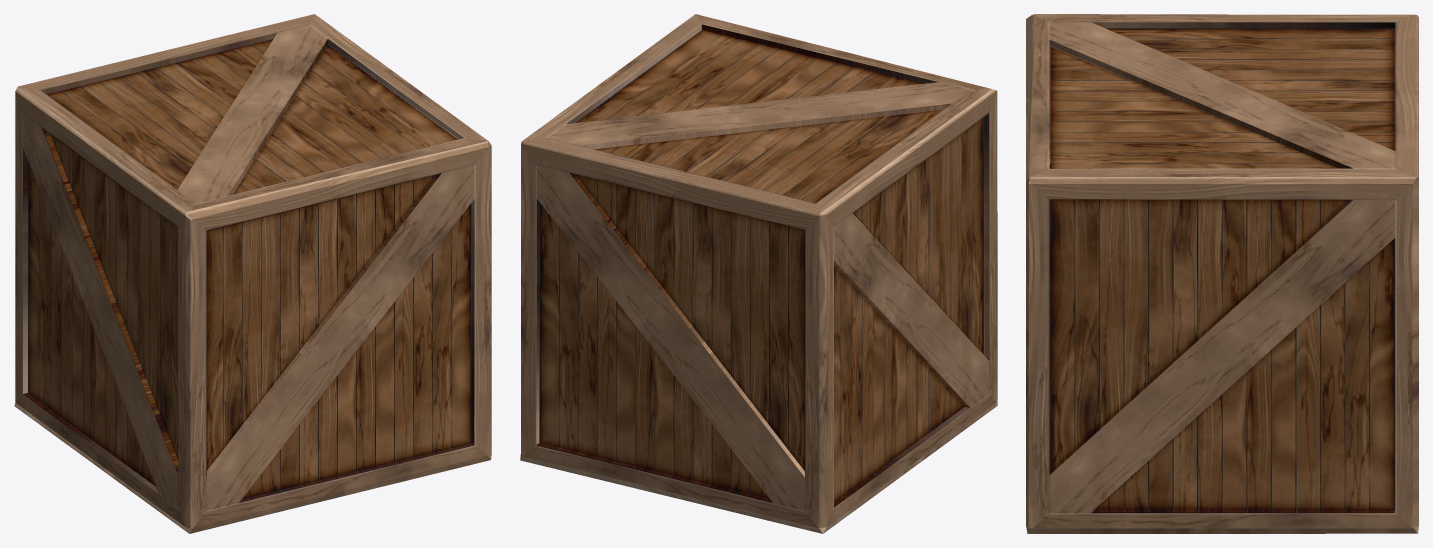
The model's file is Crate.fbx.
3 views of the same model, side by side, from view 1: azimuth 30°, elevation 25°; view 2: azimuth 150°, elevation 25°; view 3: azimuth 270°, elevation 25° (orthographic). The views are drawn at different scales.
Parts seen in each view (by area): view 1: Cube; view 2: Cube; view 3: Cube.
Boxes of the visible parts, x1,y1,x2,y2 form: Cube: [14, 14, 491, 533]; Cube: [520, 14, 997, 533]; Cube: [1026, 14, 1418, 533].
Size of the model in its own units: 200 by 200 by 200.
